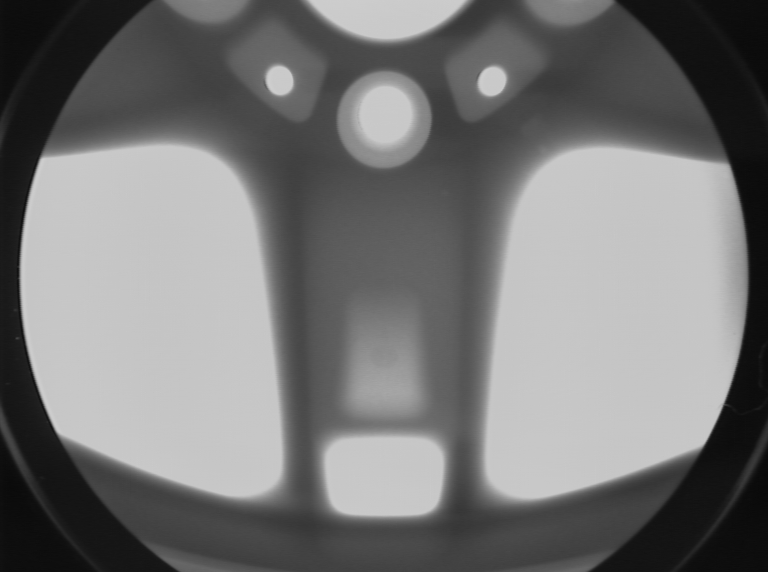defect: (437, 186, 457, 201)
